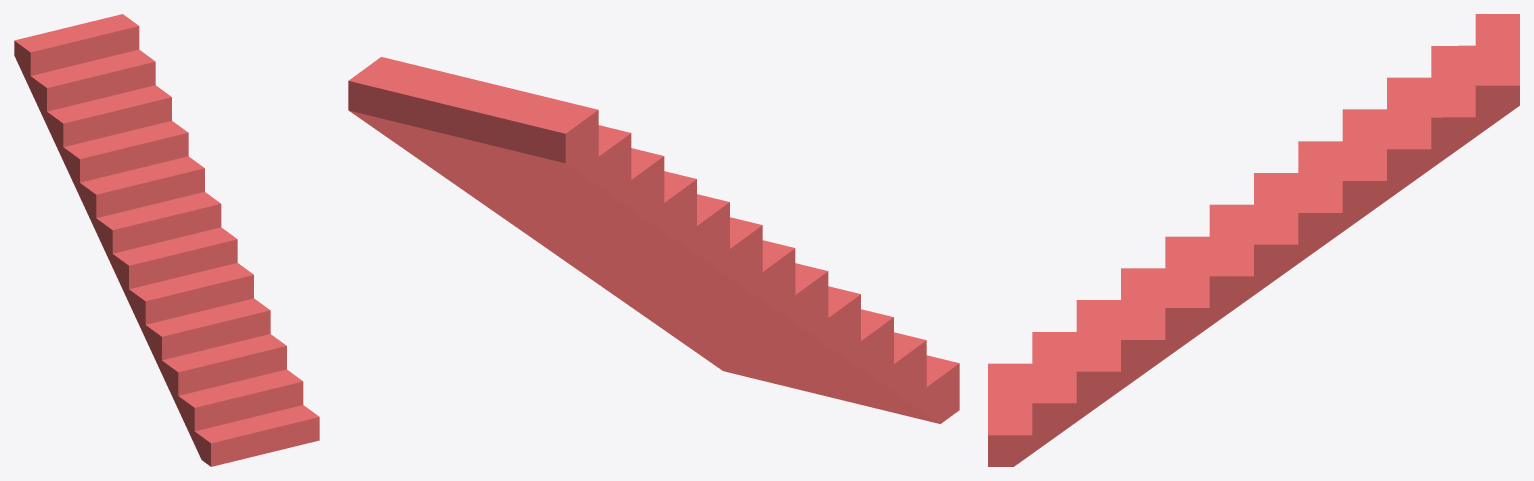
File: Stairs_094.glb
3 views of the same model, side by side, from view 1: azimuth 30°, elevation 25°; view 2: azimuth 150°, elevation 25°; view 3: azimuth 270°, elevation 25° (orthographic). The views are drawn at different scales.
Parts seen in each view (by area): view 1: Stairs_094; view 2: Stairs_094; view 3: Stairs_094.
Boxes of the visible parts, x1=… form: Stairs_094: x1=14, y1=14, x2=319, y2=466; Stairs_094: x1=348, y1=57, x2=959, y2=423; Stairs_094: x1=988, y1=14, x2=1519, y2=466.
Size of the model in its own units: 1.62 by 4.02 by 5.08.
1 material, 1 textured.
